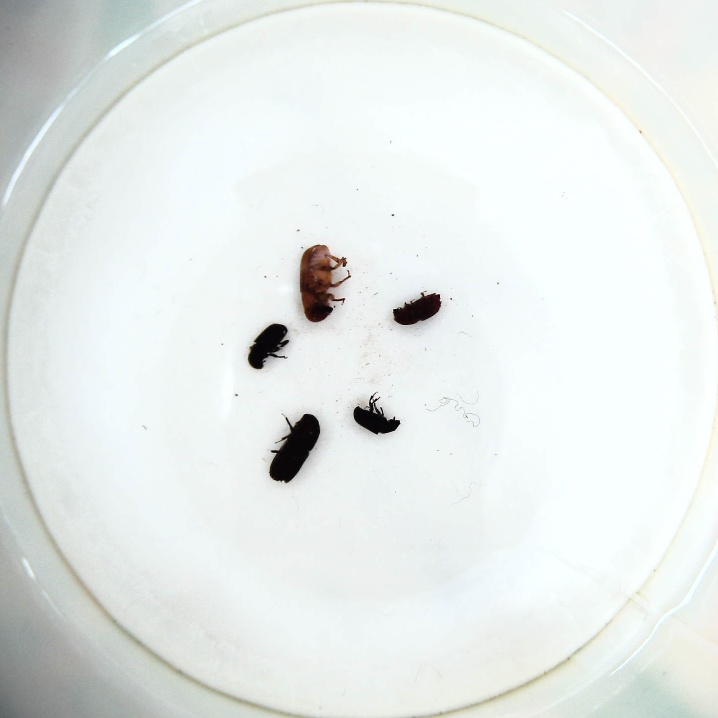armandi: (247, 323, 296, 370)
boerner: (266, 411, 322, 485)
coleoptera: (352, 390, 404, 435)
leconte: (298, 244, 353, 325)
linnaeus: (391, 286, 444, 327)
